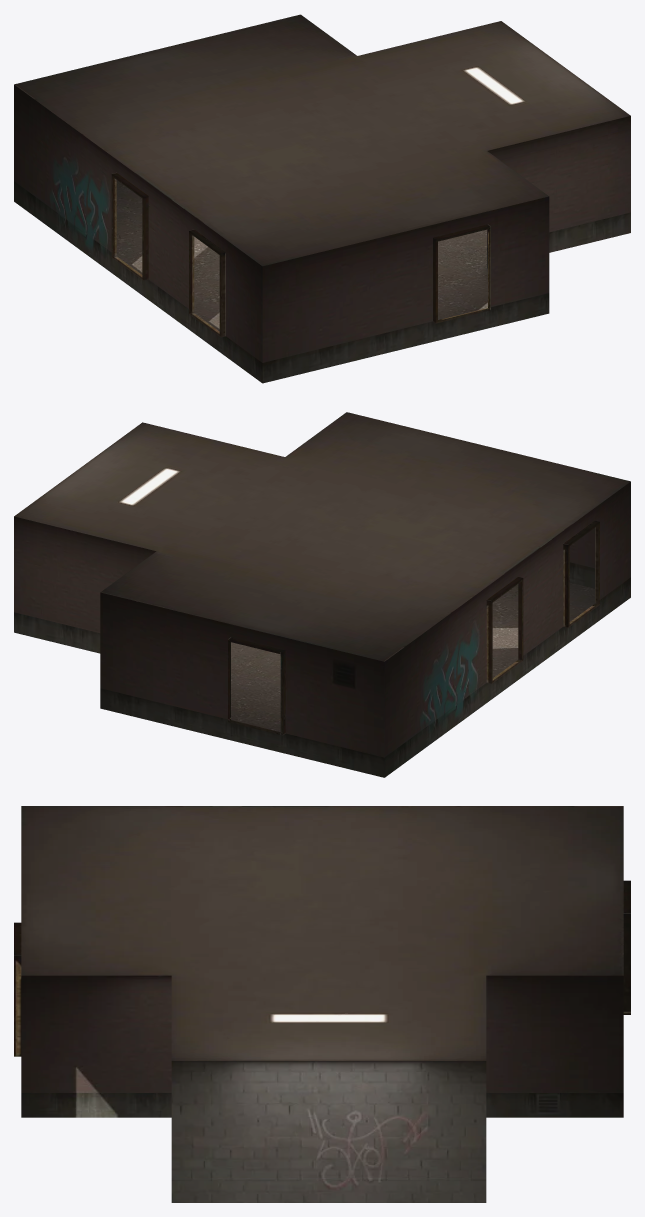
Rendered from vacancy-set.glb.
3 views of the same model, one above another, from view 1: azimuth 30°, elevation 25°; view 2: azimuth 150°, elevation 25°; view 3: azimuth 270°, elevation 25° (orthographic). The views are drawn at different scales.
Parts seen in each view (by area): view 1: Object_2; view 2: Object_2; view 3: Object_2.
Boxes of the visible parts, x1,y1,x2,y2 form: Object_2: [14, 14, 630, 383]; Object_2: [14, 412, 630, 777]; Object_2: [14, 806, 630, 1202].
Size of the model in its own units: 10.75 by 2.76 by 10.88.
10 materials, 9 textured.
